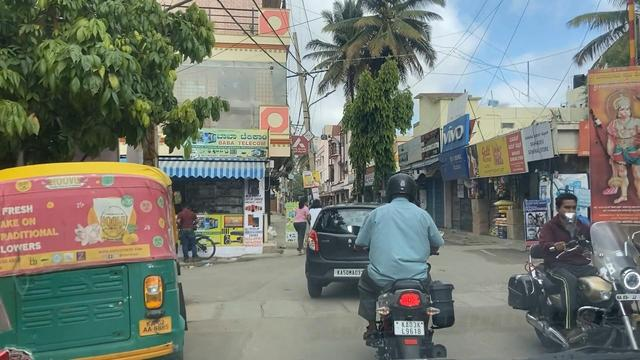LMV: (363, 175, 438, 360)
RoadDamages: (195, 272, 279, 308), (259, 299, 352, 324), (204, 324, 257, 360)
